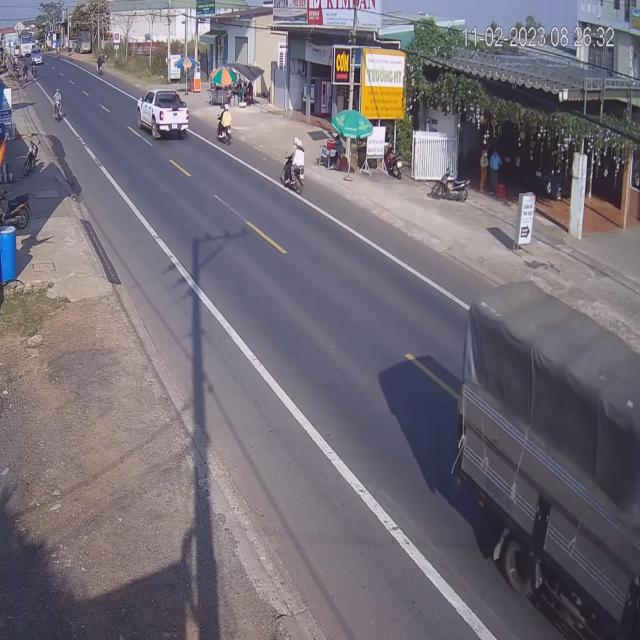car: (137, 89, 189, 144)
motorbike: (280, 139, 306, 198), (216, 105, 232, 145), (55, 85, 66, 122)
truck: (456, 279, 640, 636)
